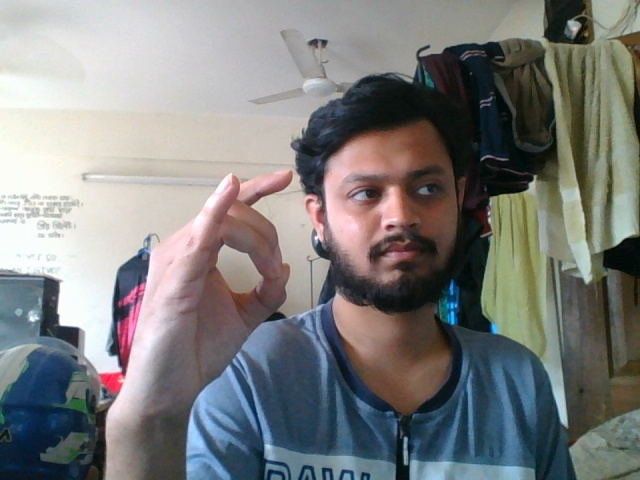cha: (109, 159, 299, 456)
